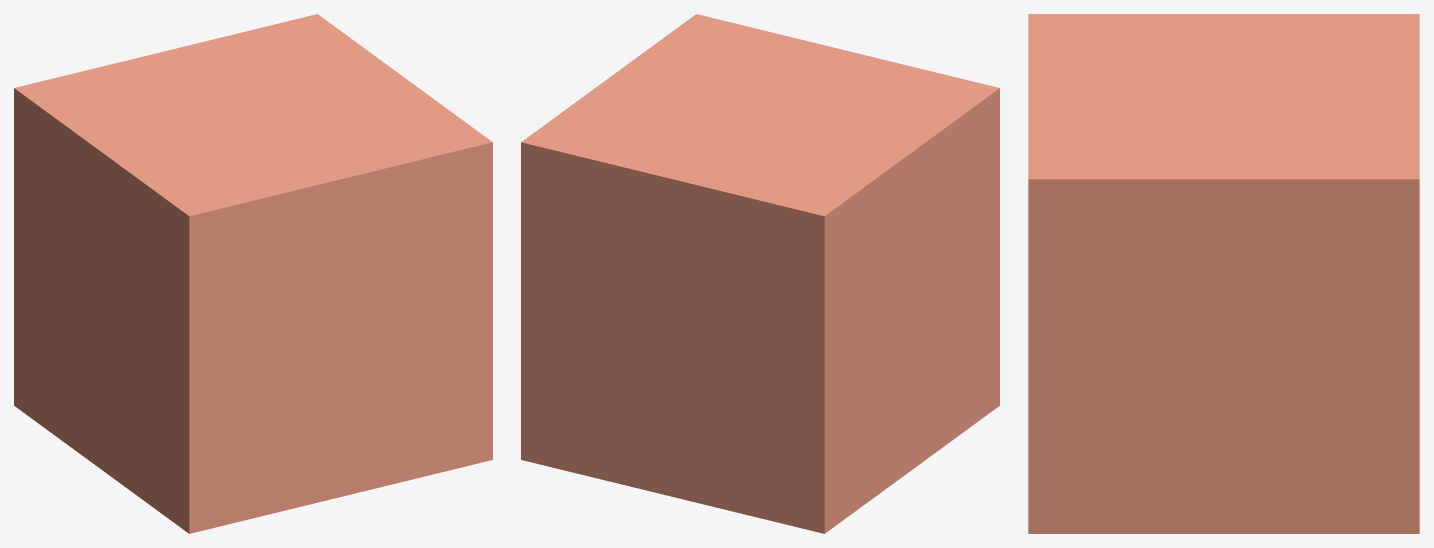
3 views of the same model, side by side, from view 1: azimuth 30°, elevation 25°; view 2: azimuth 150°, elevation 25°; view 3: azimuth 270°, elevation 25° (orthographic). The views are drawn at different scales.
Parts seen in each view (by area): view 1: Cube; view 2: Cube; view 3: Cube.
Part boxes in pixels (bbox=[...]): Cube: bbox=[14, 14, 492, 533]; Cube: bbox=[521, 14, 999, 533]; Cube: bbox=[1028, 14, 1419, 533].
Bounding box in the file's own units: 1.6 × 1.6 × 1.6.
